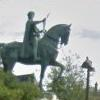Statue: (3, 10, 76, 71)
